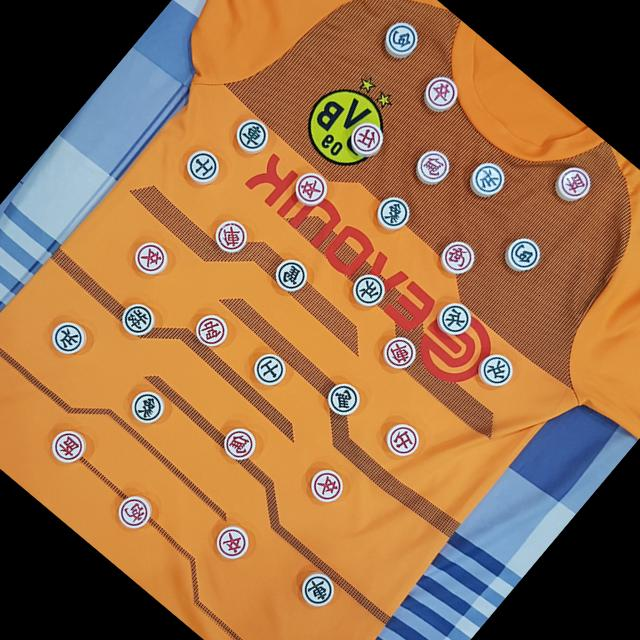black-advisor: (165, 130, 239, 203), (232, 335, 304, 407)
black-cannon: (489, 218, 559, 289), (370, 5, 436, 70)
black-chariot: (279, 554, 352, 628), (220, 100, 287, 168)
black-elephant: (112, 367, 183, 438), (357, 179, 428, 250)
black-general: (105, 286, 168, 348)
black-horse: (250, 234, 326, 310), (314, 366, 378, 430)
black-soldier: (30, 298, 104, 372), (466, 332, 538, 408), (454, 149, 520, 218), (425, 282, 490, 348), (336, 258, 400, 323)
red-advisor: (367, 404, 437, 472), (341, 113, 395, 167)
red-cannon: (105, 476, 170, 541), (430, 226, 484, 282)
red-chariot: (198, 198, 263, 264), (367, 321, 432, 386)
red-elephant: (36, 409, 106, 479), (544, 150, 611, 218)
red-general: (182, 298, 248, 364)
red-horse: (201, 404, 272, 474), (402, 138, 462, 198)
red-soldier: (113, 211, 195, 294), (195, 501, 270, 577), (292, 452, 362, 522), (278, 152, 346, 221), (407, 56, 475, 124)
